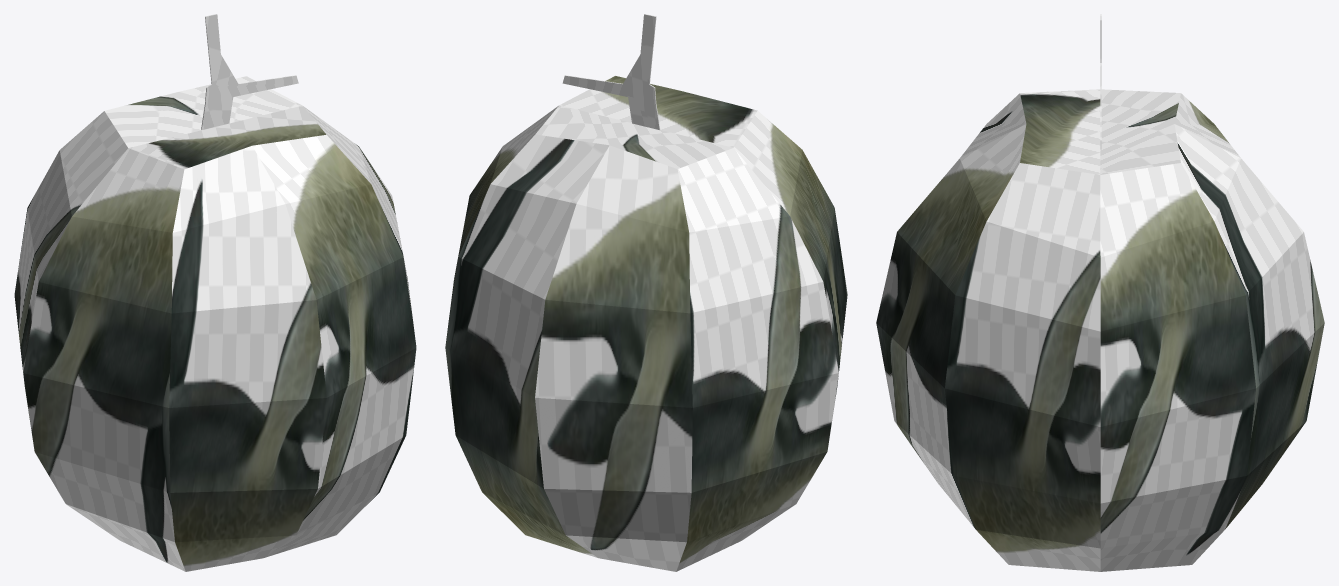
File: Melon.fbx
The picture shows the model from 3 angles, left to right: view 1: azimuth 30°, elevation 25°; view 2: azimuth 150°, elevation 25°; view 3: azimuth 270°, elevation 25°; orthographic projection.
Parts seen in each view (by area): view 1: MelonMesh; view 2: MelonMesh; view 3: MelonMesh.
Boxes of the visible parts, x1,y1,x2,y2 form: MelonMesh: (14,14,416,571); MelonMesh: (445,14,847,571); MelonMesh: (876,14,1324,571).
Bounding box in the file's own units: 384 × 500 × 386.
